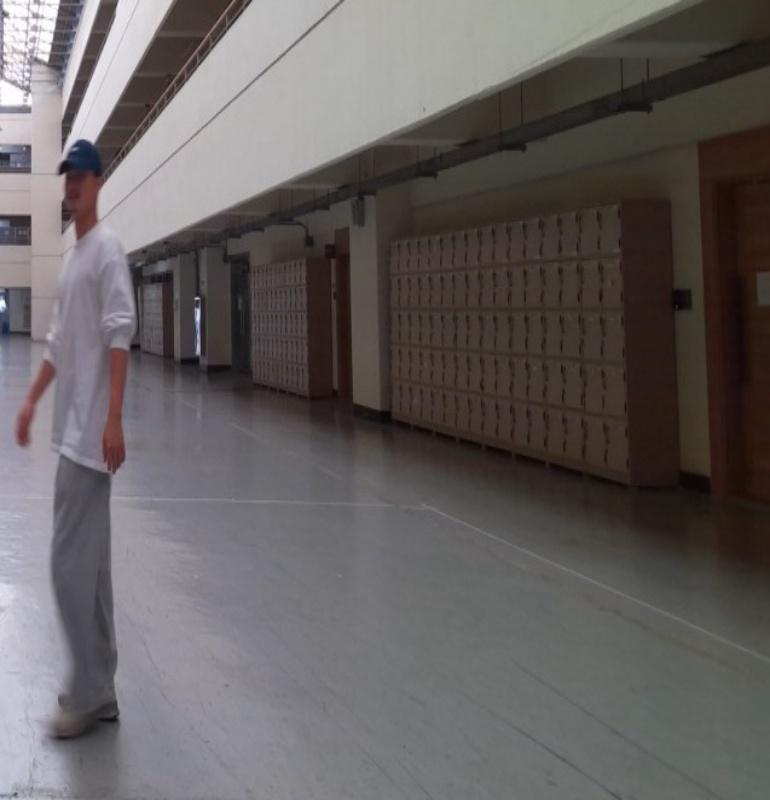person: (15, 138, 141, 740)
